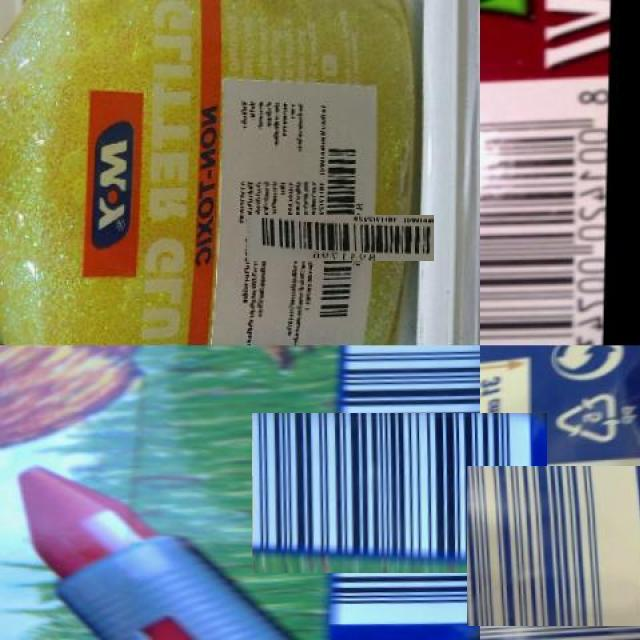Barcode: (285, 379, 514, 606), (480, 83, 608, 345), (473, 459, 640, 633), (282, 180, 398, 297)
